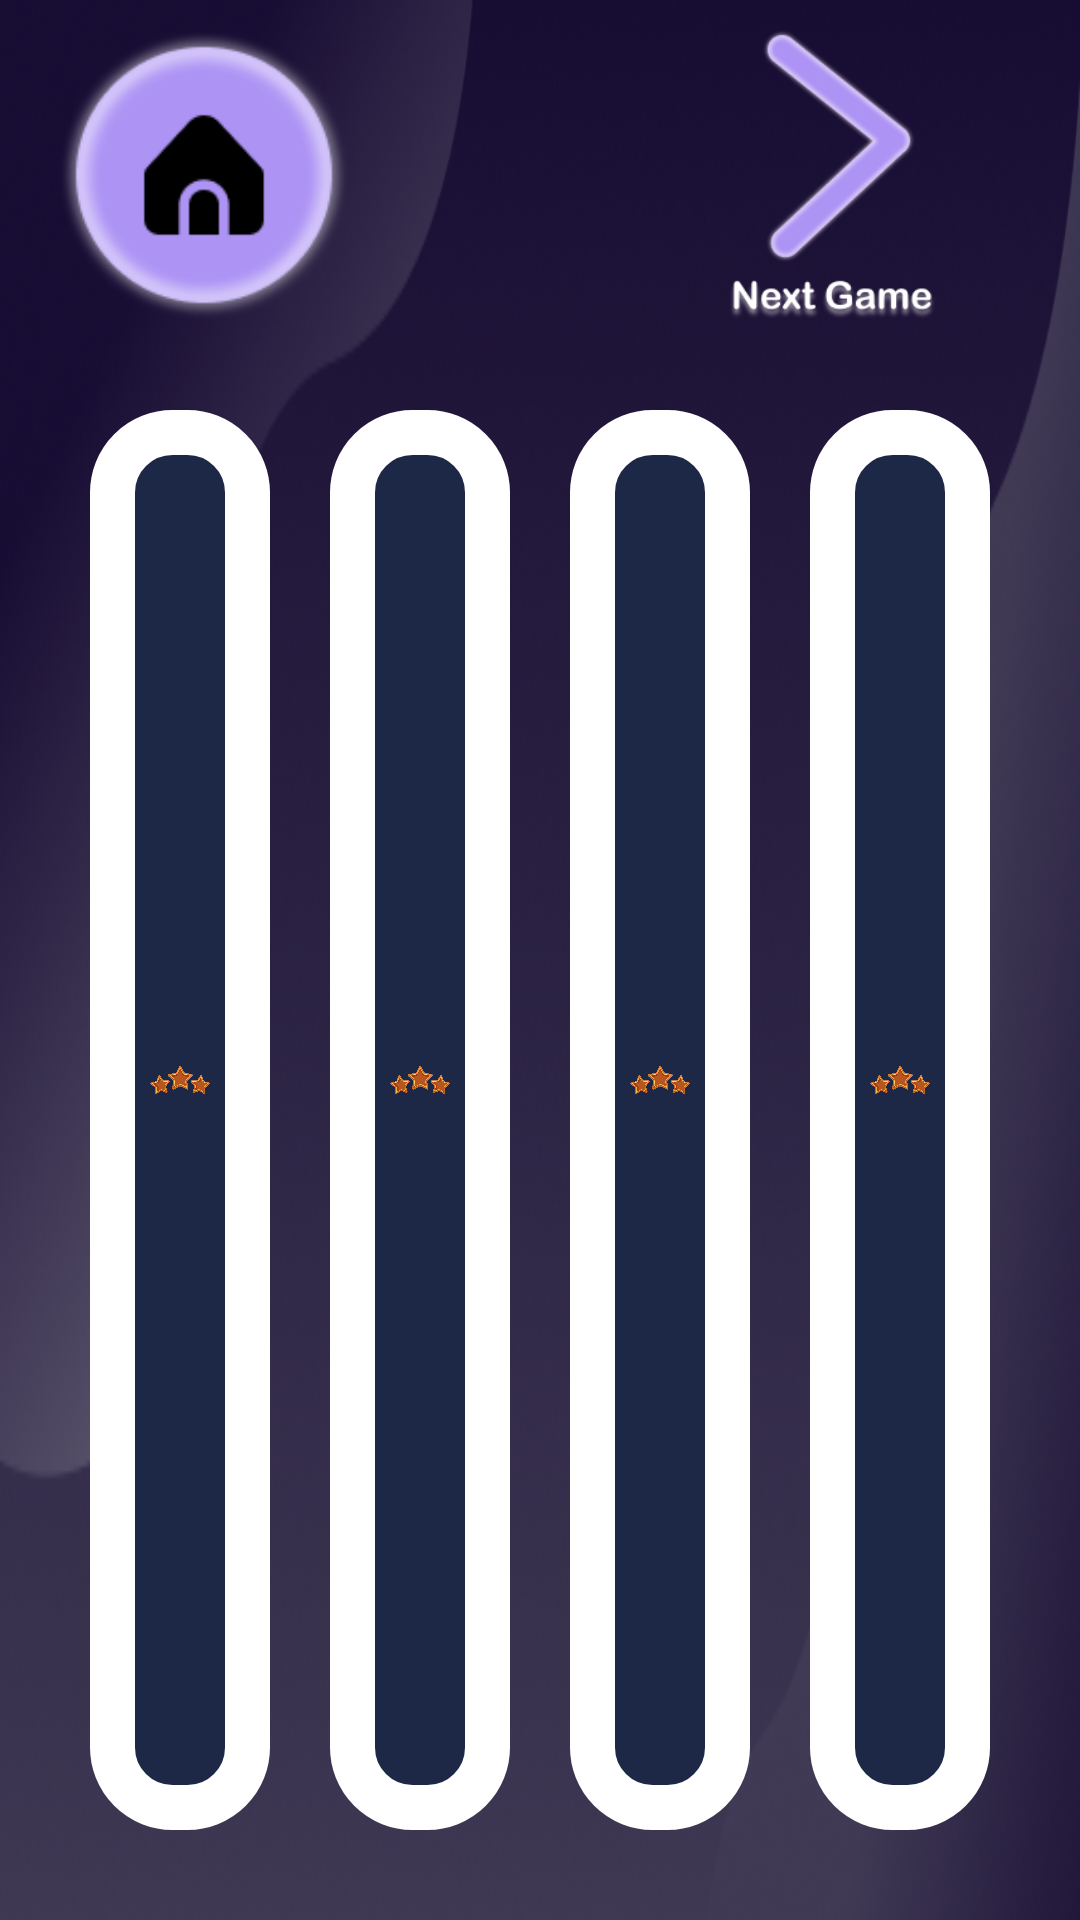

Icons on this 1080px×1920px Android screen, each with its box as (x1, y1, x2, y2):
home: (67, 38, 402, 314)
